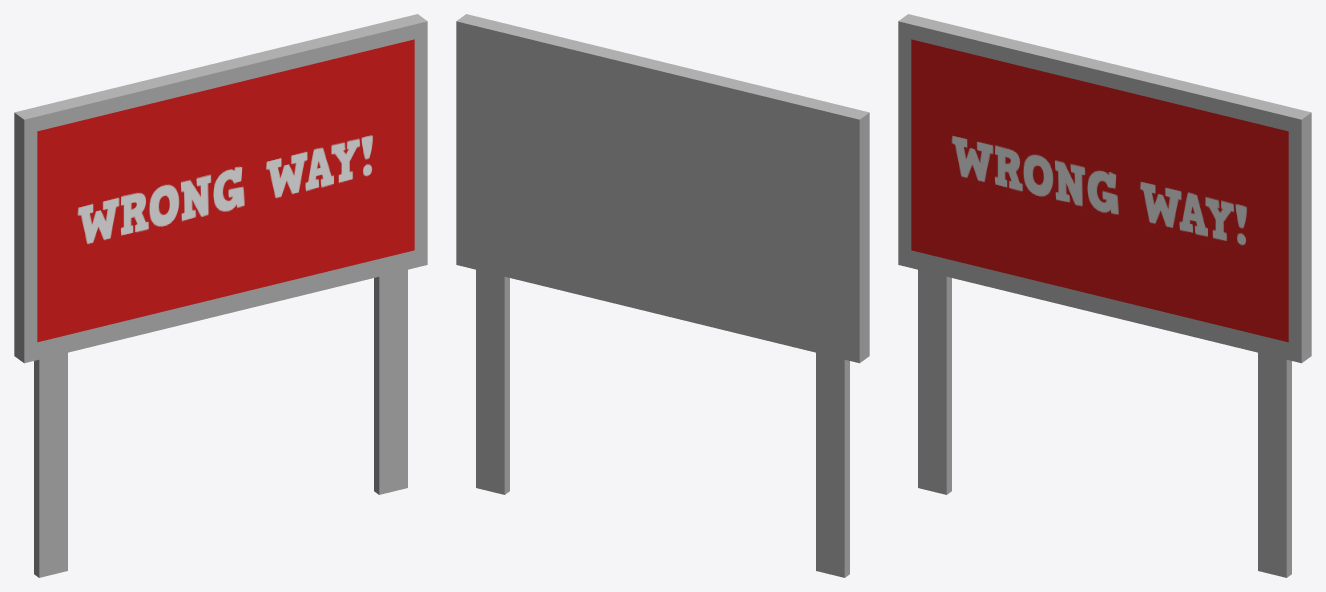
Rendered from WrongWaySign.glb.
3 renders of one model, left to right at view 1: azimuth 30°, elevation 25°; view 2: azimuth 150°, elevation 25°; view 3: azimuth 330°, elevation 25°, orthographic.
Parts seen in each view (by area): view 1: Cube; view 2: Cube; view 3: Cube.
Boxes of the visible parts, x1,y1,x2,y2 form: Cube: (14,14,427,577); Cube: (456,14,869,577); Cube: (898,14,1311,577).
Bounding box in the file's own units: 2.65 × 2.91 × 0.1133.
2 materials, 1 textured.
